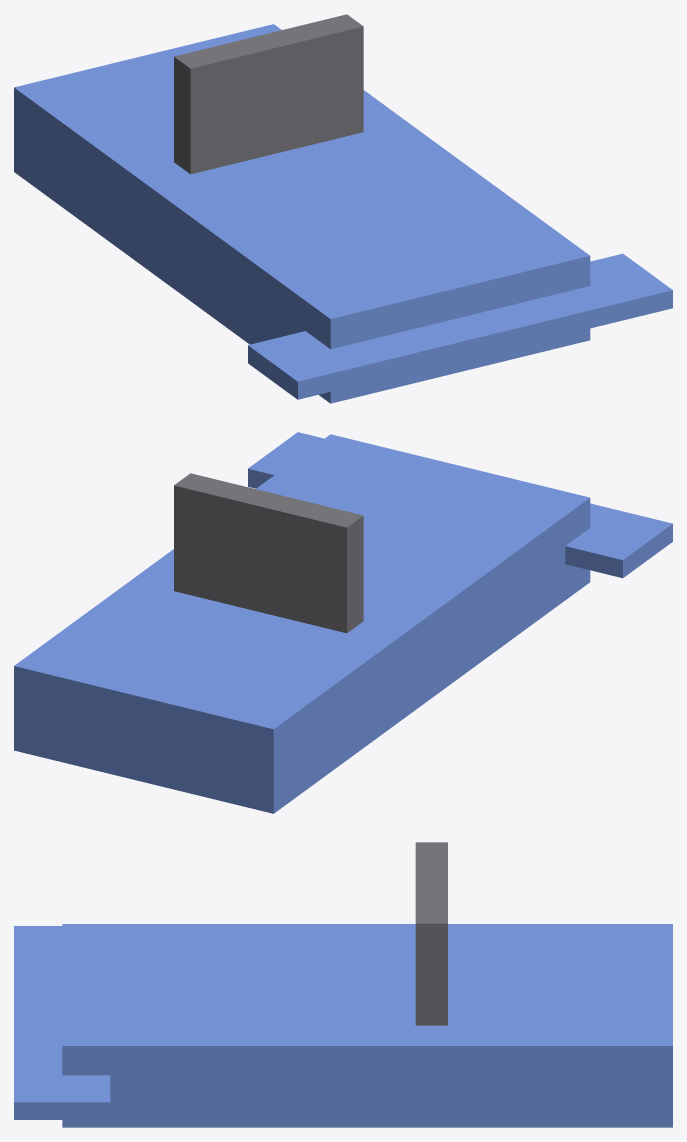
File: mach-8.glb
3 renders of one model, top to bottom at view 1: azimuth 30°, elevation 25°; view 2: azimuth 150°, elevation 25°; view 3: azimuth 270°, elevation 25°, orthographic. The views are drawn at different scales.
Parts seen in each view (by area): view 1: mach-8; view 2: mach-8; view 3: mach-8.
Part boxes in pixels (x1=…): mach-8: x1=14, y1=14, x2=672, y2=403; mach-8: x1=14, y1=432, x2=672, y2=813; mach-8: x1=14, y1=842, x2=672, y2=1127.
Bounding box in the file's own units: 1.3 × 0.63 × 2.05.
